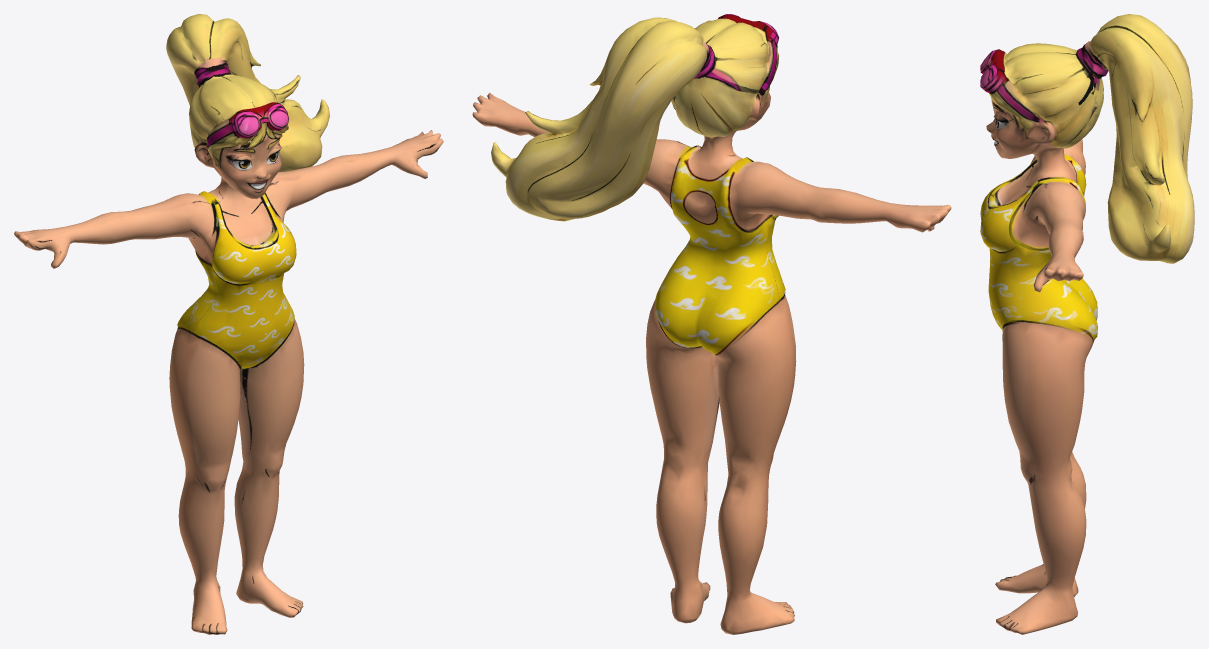
Rendered from CartoonSwimmer.glb.
3 renders of one model, left to right at view 1: azimuth 30°, elevation 25°; view 2: azimuth 150°, elevation 25°; view 3: azimuth 270°, elevation 25°, orthographic. The views are drawn at different scales.
Size of the model in its own units: 1.5 by 1.91 by 0.625.
1 material, 1 textured.
